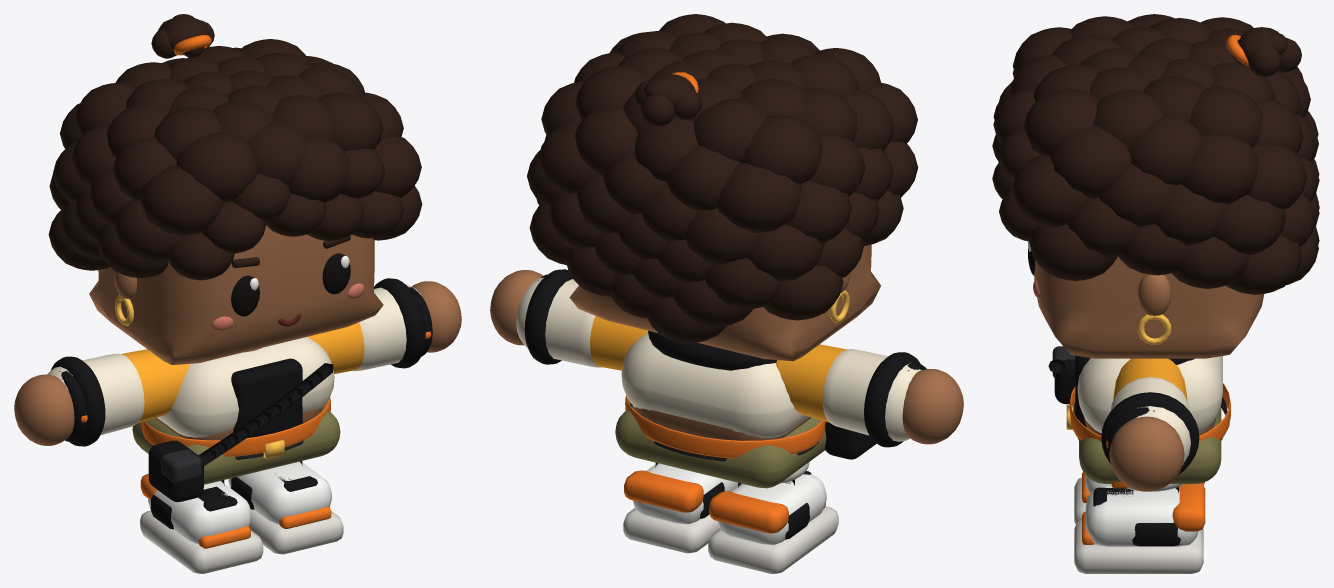
File: yun_chibi_v11.glb
3 views of the same model, side by side, from view 1: azimuth 30°, elevation 25°; view 2: azimuth 150°, elevation 25°; view 3: azimuth 270°, elevation 25° (orthographic). The views are drawn at different scales.
Parts seen in each view (by area): view 1: Hair_Curls, Head, Jacket, Shoe_R, Arm_R, Shoe_L, Arm_L, Hand_R, CropTop, Shorts, Bag, Hand_L (+3 smaller); view 2: Hair_Curls, Jacket, Arm_R, Shoe_R, Head, Arm_L, Shoe_L, Shorts, Hand_R, Hair_Ponytail, Collar, Hand_L (+2 smaller); view 3: Hair_Curls, Head, Shoe_L, Jacket, Arm_L, Hand_L, Shorts, Hair_Ponytail, Bag, Shoe_R, Earrings, CropTop.
Part boxes in pixels (<box>): Hair_Curls: <box>48,39,422,280</box>; Head: <box>89,225,383,364</box>; Jacket: <box>141,336,334,456</box>; Shoe_R: <box>140,474,263,573</box>; Arm_R: <box>47,349,189,446</box>; Shoe_L: <box>228,461,343,554</box>; Arm_L: <box>308,278,425,373</box>; Hand_R: <box>14,371,87,445</box>; CropTop: <box>231,358,302,437</box>; Shorts: <box>132,407,340,484</box>; Bag: <box>148,440,203,502</box>; Hand_L: <box>409,281,461,356</box>; Hair_Curls: <box>527,14,918,343</box>; Jacket: <box>621,332,825,458</box>; Arm_R: <box>775,344,921,447</box>; Shoe_R: <box>708,471,838,573</box>; Head: <box>569,244,880,361</box>; Arm_L: <box>516,269,647,370</box>; Shoe_L: <box>623,463,737,553</box>; Shorts: <box>615,405,826,488</box>; Hand_R: <box>902,362,963,444</box>; Hair_Ponytail: <box>634,73,701,126</box>; Collar: <box>648,331,776,370</box>; Hand_L: <box>490,270,547,345</box>; Hair_Curls: <box>992,14,1319,294</box>; Head: <box>1034,256,1264,358</box>; Shoe_L: <box>1074,483,1205,573</box>; Jacket: <box>1069,356,1230,442</box>; Arm_L: <box>1101,358,1199,474</box>; Hand_L: <box>1106,407,1184,491</box>; Shorts: <box>1079,406,1221,491</box>; Hair_Ponytail: <box>1232,27,1301,77</box>; Bag: <box>1052,346,1075,404</box>; Shoe_R: <box>1074,472,1204,524</box>; Earrings: <box>1138,314,1171,344</box>; CropTop: <box>1075,355,1090,427</box>.
Size of the model in its own units: 0.644 by 0.672 by 0.3921.
